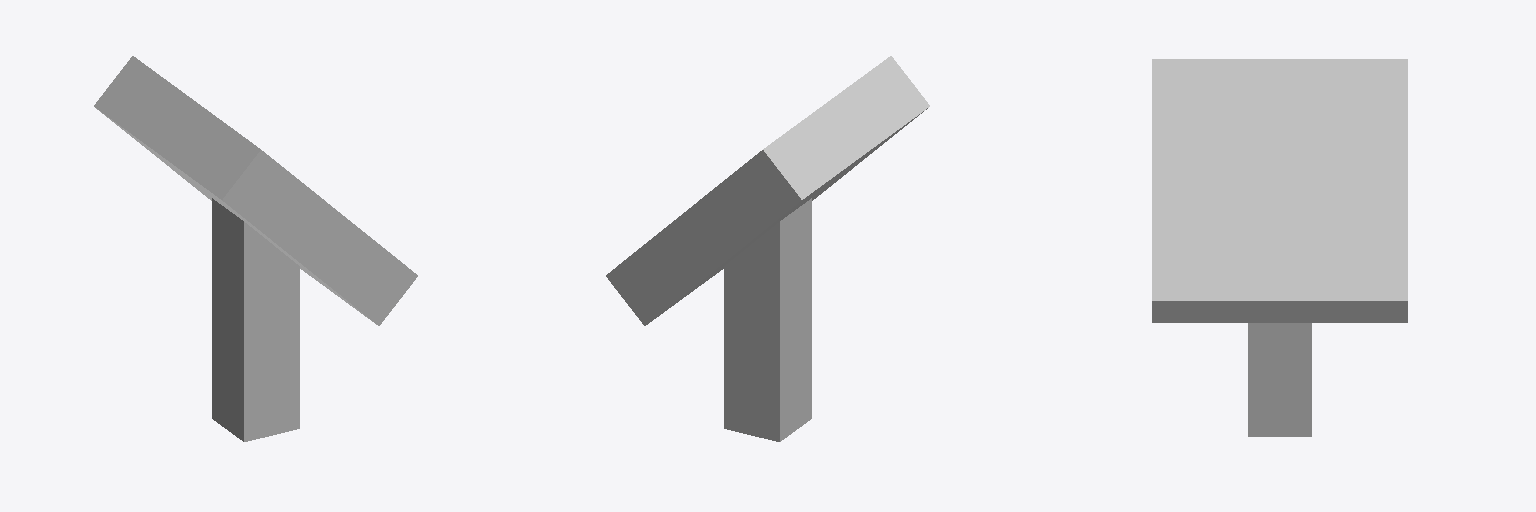
File: panel.obj
The picture shows the model from 3 angles: view 1: azimuth 30°, elevation 25°; view 2: azimuth 150°, elevation 25°; view 3: azimuth 270°, elevation 25°; orthographic projection.
Parts seen in each view (by area): view 1: Cube.001_Cube.002; view 2: Cube.001_Cube.002; view 3: Cube.001_Cube.002.
Boxes of the visible parts, x1=… form: Cube.001_Cube.002: x1=94, y1=56, x2=417, y2=441; Cube.001_Cube.002: x1=606, y1=56, x2=929, y2=441; Cube.001_Cube.002: x1=1152, y1=59, x2=1407, y2=436.
Bounding box in the file's own units: 1.77 × 2.88 × 2.